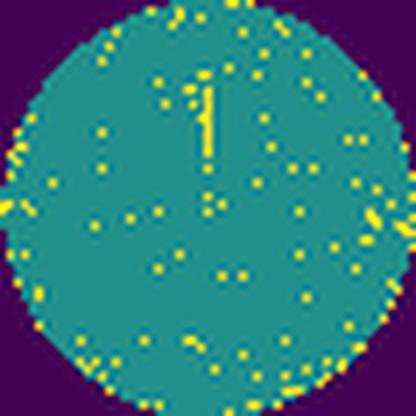Scratch: (189, 77, 225, 163)
